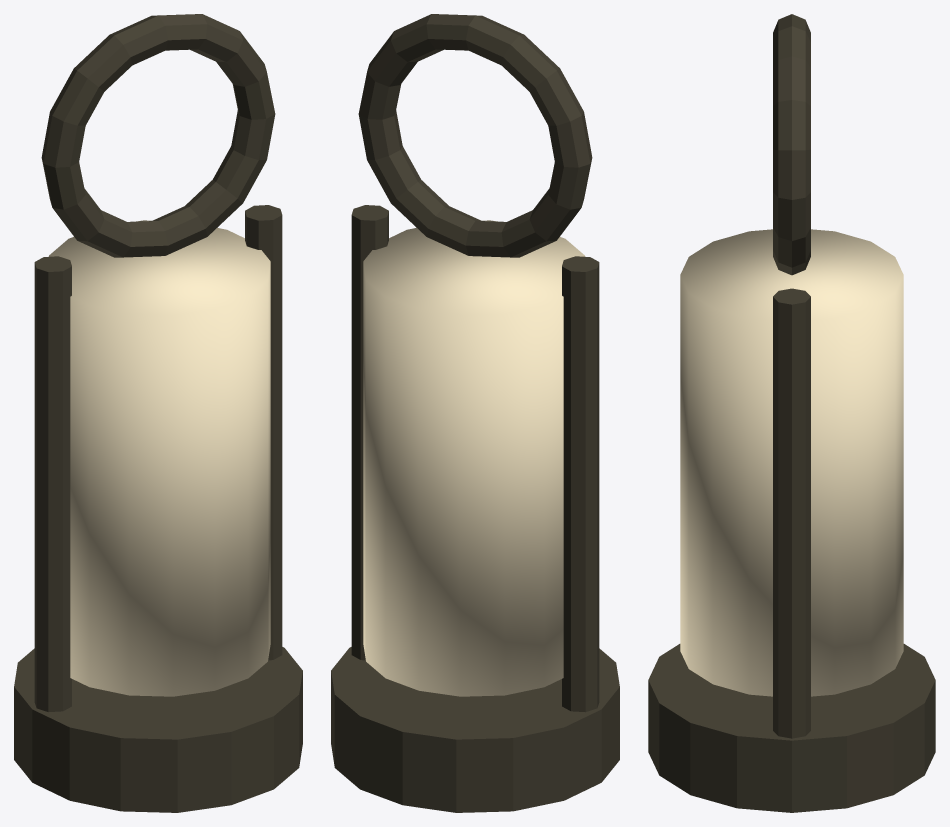
The model's file is lantern.glb.
The picture shows the model from 3 angles, left to right: view 1: azimuth 30°, elevation 25°; view 2: azimuth 150°, elevation 25°; view 3: azimuth 270°, elevation 25°; orthographic projection.
Parts seen in each view (by area): view 1: Lantern_Glass, Lantern_Body, Lantern_Handle; view 2: Lantern_Glass, Lantern_Body, Lantern_Handle; view 3: Lantern_Glass, Lantern_Body, Lantern_Handle.
Boxes of the visible parts, bbox=[...] form: Lantern_Glass: bbox=[49, 220, 270, 696]; Lantern_Body: bbox=[14, 205, 302, 812]; Lantern_Handle: bbox=[41, 14, 275, 257]; Lantern_Glass: bbox=[363, 220, 584, 696]; Lantern_Body: bbox=[331, 205, 619, 812]; Lantern_Handle: bbox=[358, 14, 592, 257]; Lantern_Glass: bbox=[680, 229, 903, 696]; Lantern_Body: bbox=[648, 288, 935, 812]; Lantern_Handle: bbox=[773, 14, 810, 275].
Size of the model in its own units: 0.18 by 0.502 by 0.18.
